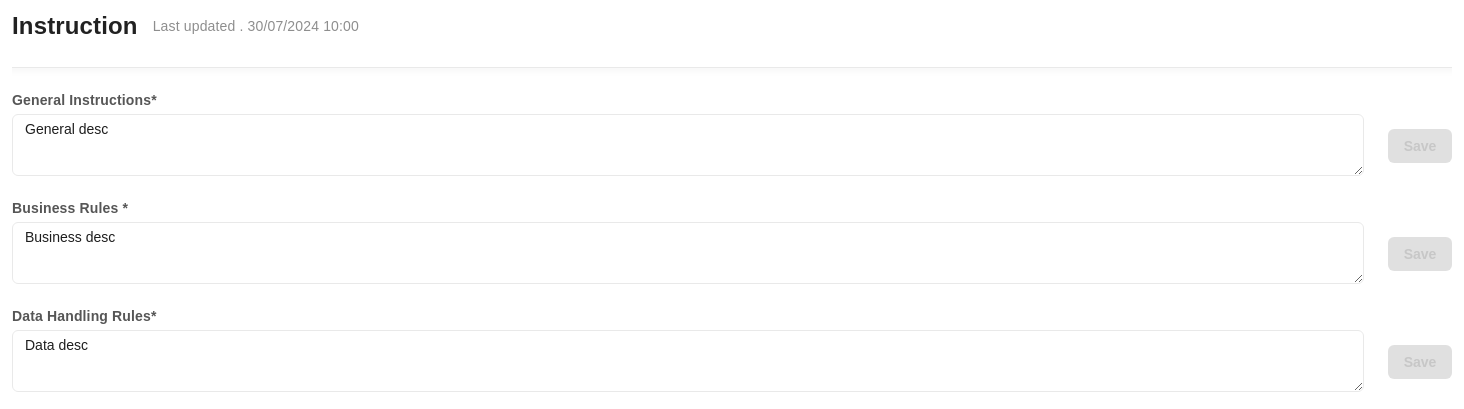
it: InstructionsTab › enables save button when input is changed
Replace the text in the text box below "General Instructions*" with "Changed" at (688, 145), box [12,114,1364,176]
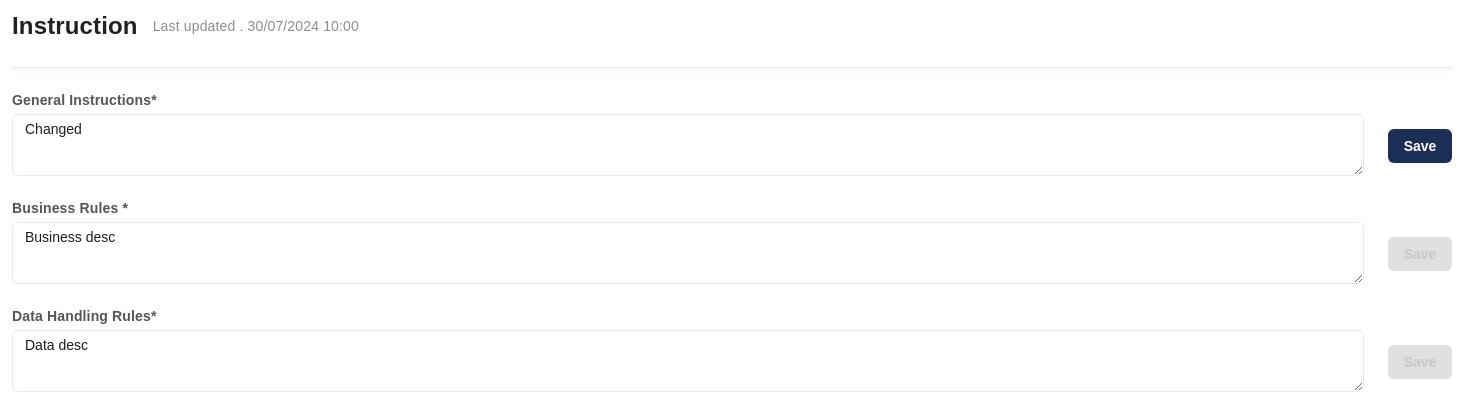
Result: the 1st button "Save" is enabled at [1388,129,1452,163]
